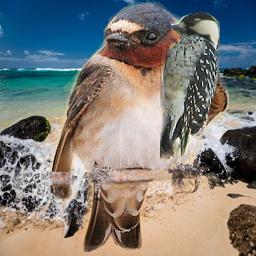Swallow: (50, 2, 229, 253)
Woodpecker: (160, 11, 220, 159)
